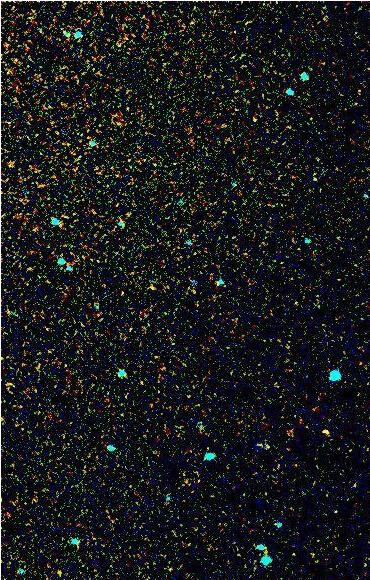star: (311, 415, 341, 445)
